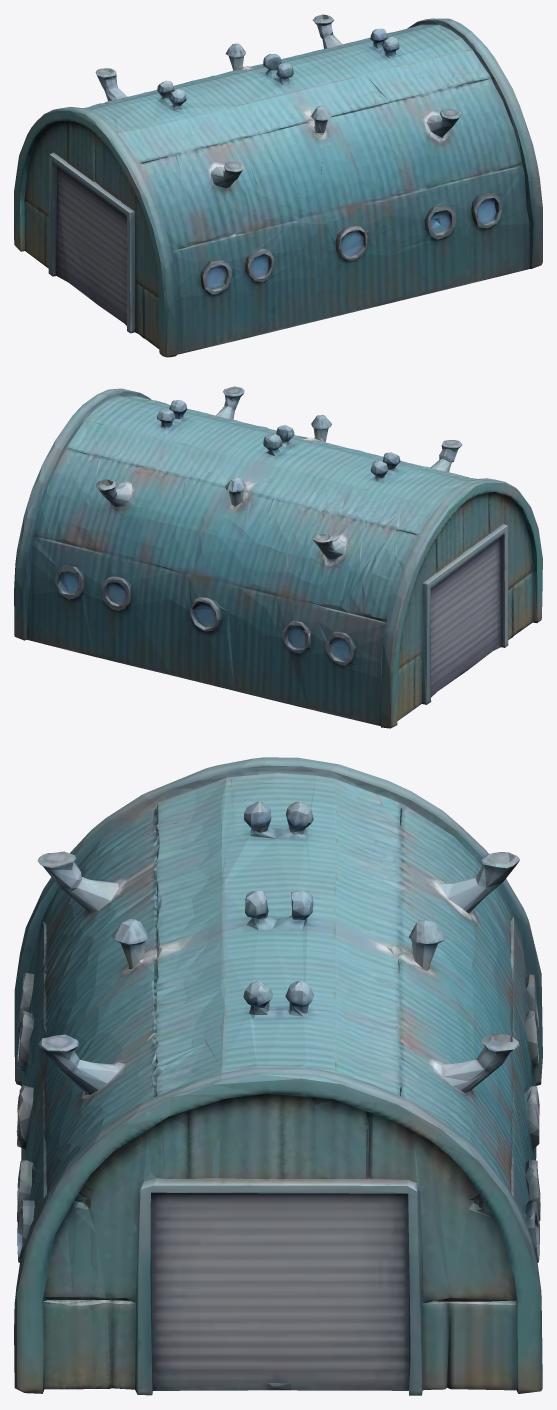
File: b-warehouse.glb
The picture shows the model from 3 angles, top to bottom: view 1: azimuth 30°, elevation 25°; view 2: azimuth 150°, elevation 25°; view 3: azimuth 270°, elevation 25°; orthographic projection. The views are drawn at different scales.
Visible parts, largest first — view 1: geometry_0; view 2: geometry_0; view 3: geometry_0.
Boxes of the visible parts, x1,y1,x2,y2 form: geometry_0: (14, 14, 542, 357); geometry_0: (14, 386, 542, 728); geometry_0: (14, 757, 542, 1395).
Size of the model in its own units: 1 by 0.5029 by 0.6994.
Materials: 1 (1 with a texture image).
